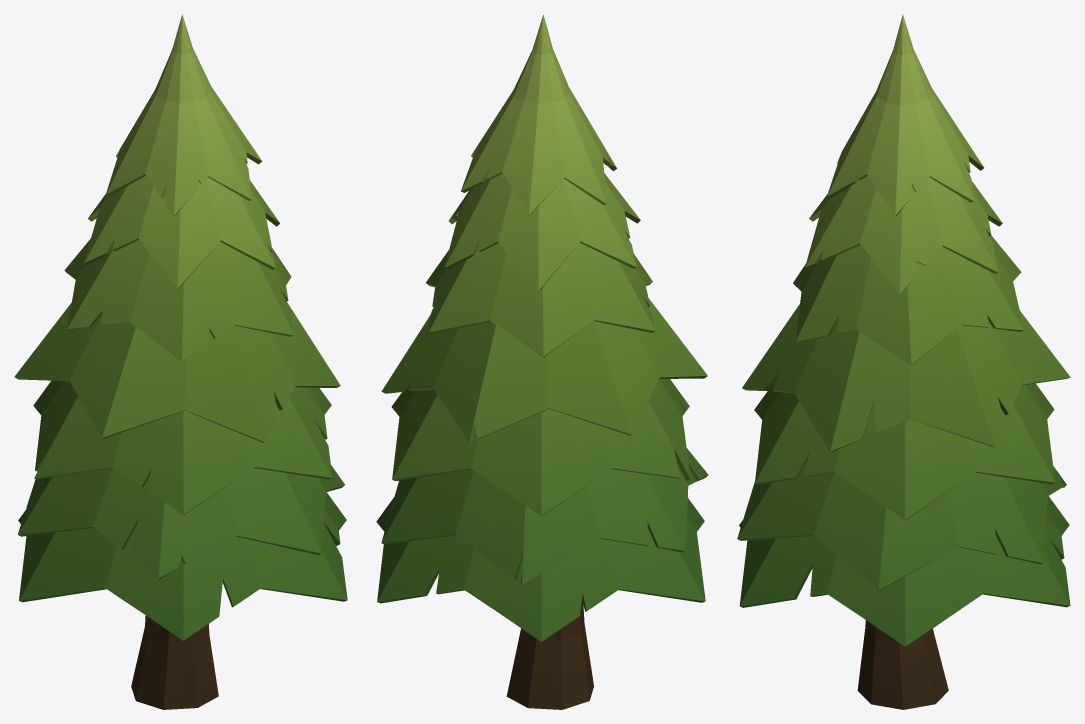
The model's file is Summer_Tree_01.glb.
3 views of the same model, side by side, from view 1: azimuth 30°, elevation 25°; view 2: azimuth 150°, elevation 25°; view 3: azimuth 270°, elevation 25° (orthographic).
Parts seen in each view (by area): view 1: Summer_Tree_01_LOD0; view 2: Summer_Tree_01_LOD0; view 3: Summer_Tree_01_LOD0.
Boxes of the visible parts, x1=… form: Summer_Tree_01_LOD0: x1=14, y1=14, x2=347, y2=709; Summer_Tree_01_LOD0: x1=376, y1=14, x2=708, y2=709; Summer_Tree_01_LOD0: x1=737, y1=14, x2=1070, y2=709.
Size of what is drawn, in the model's own units: 2.3 by 4.53 by 2.01.
1 material, 1 textured.
